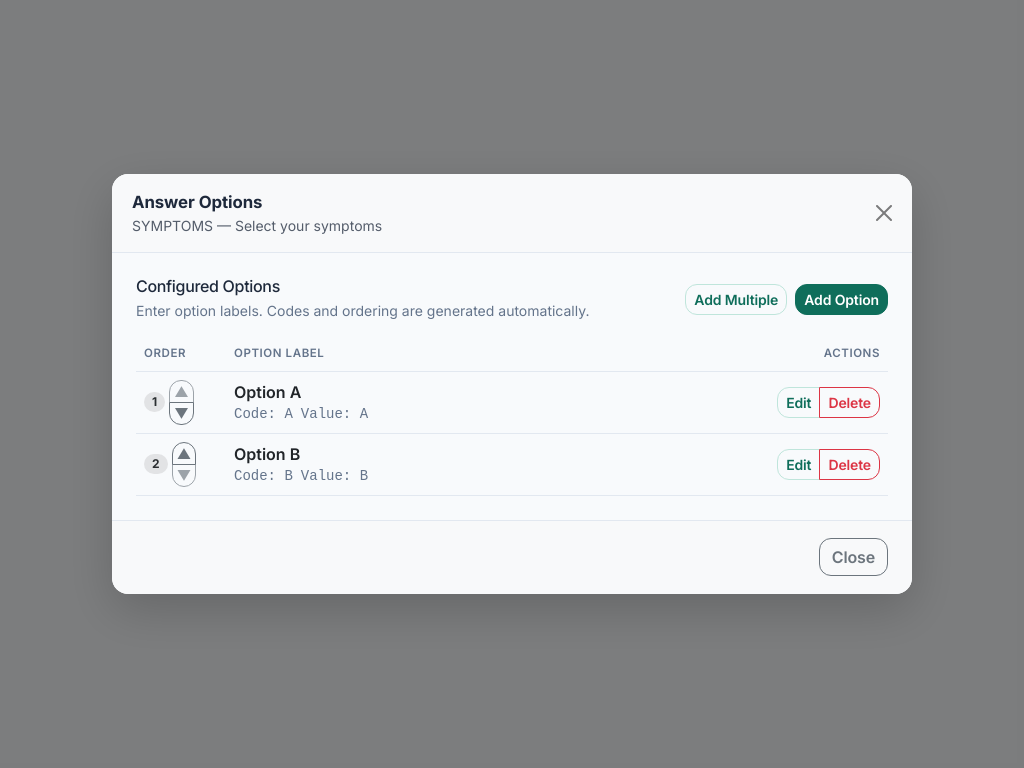
Test: AnswerOptionsModal › supports reordering options with Move Up and Move Down buttons
Expected: the text "Option A" is shown, [234,382,301,402]
Expected: the button named "Move up Option A" is disabled, [169,380,194,403]
// Move Option A down (swaps with Option B)
Click the button named "Move down Option A" at (181, 413), box [169,402,194,425]
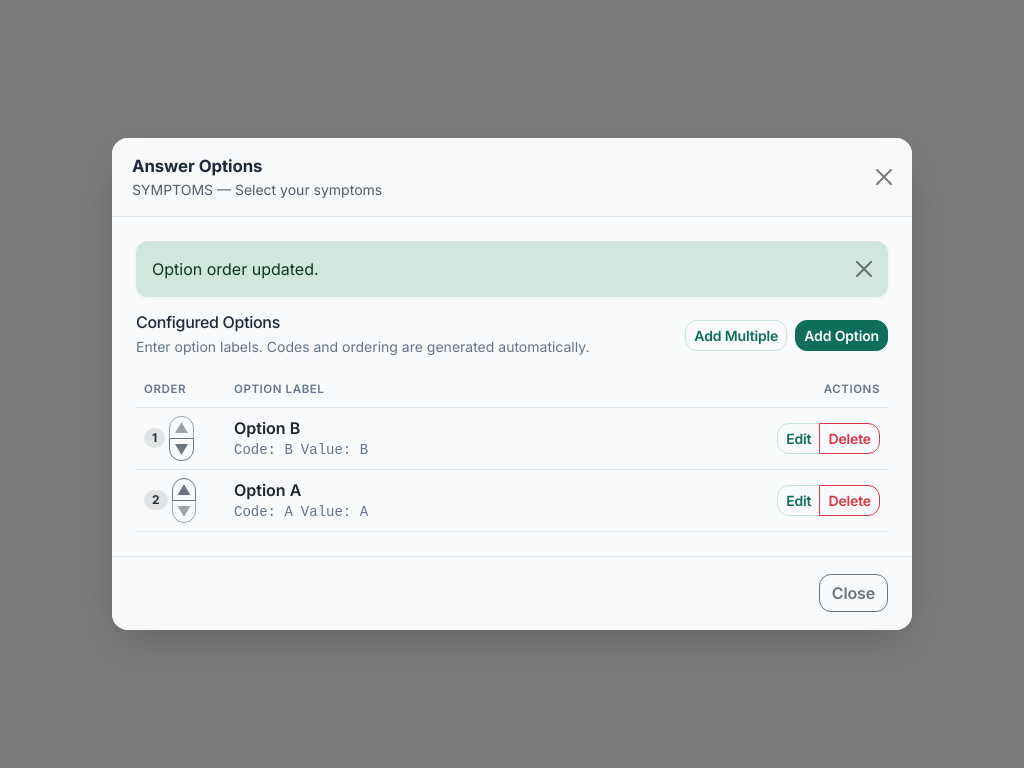
Expected: the text "Option order updated." is shown, [136,241,888,297]
